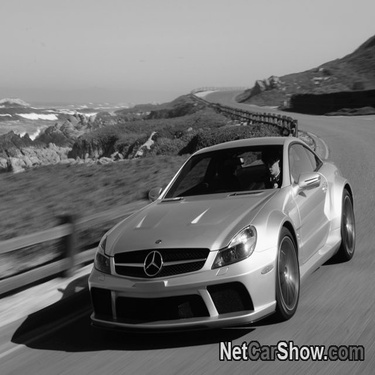car: (79, 130, 361, 344)
